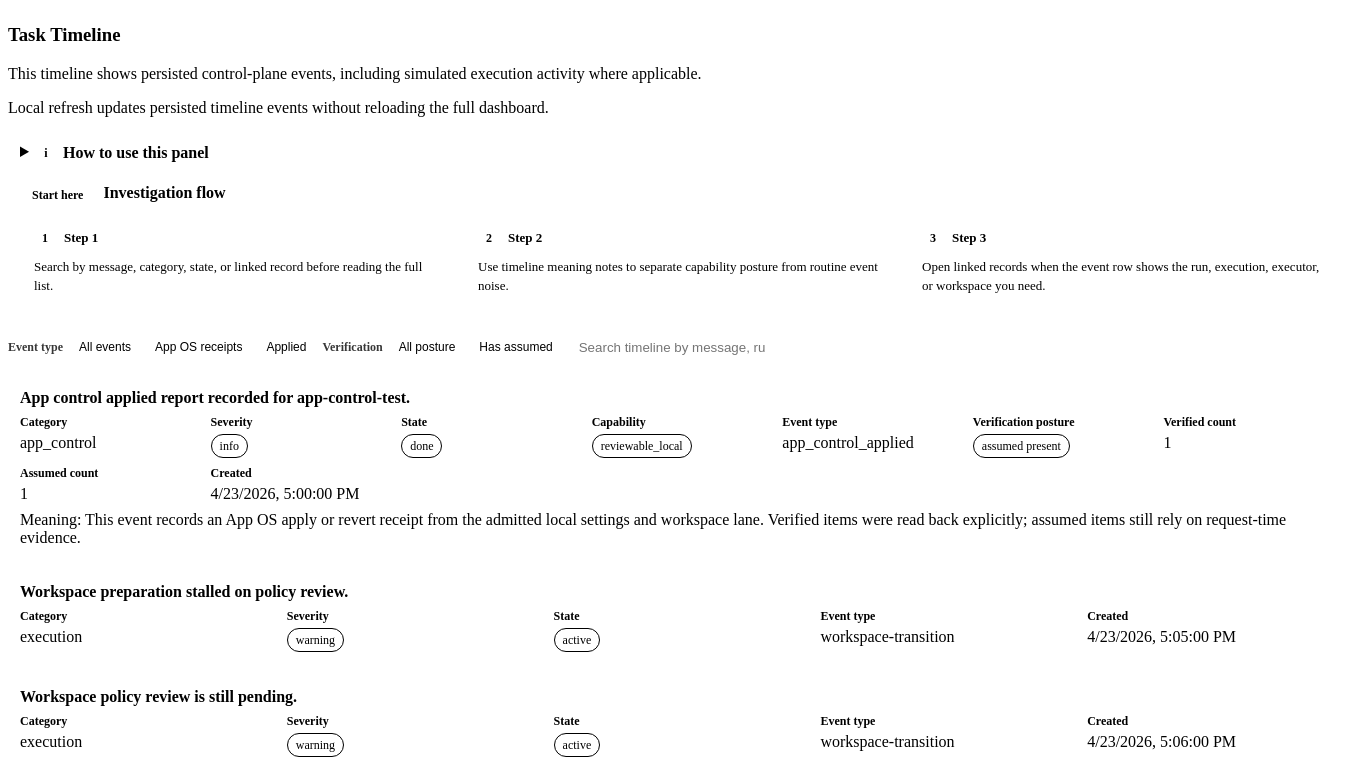
Test: TaskTimeline › shows an inline high-narrowing warning near the filters
The width and height of the screenshot is (1366, 768).
Click the button "App OS receipts" at (199, 347), box [147,338,250,356]
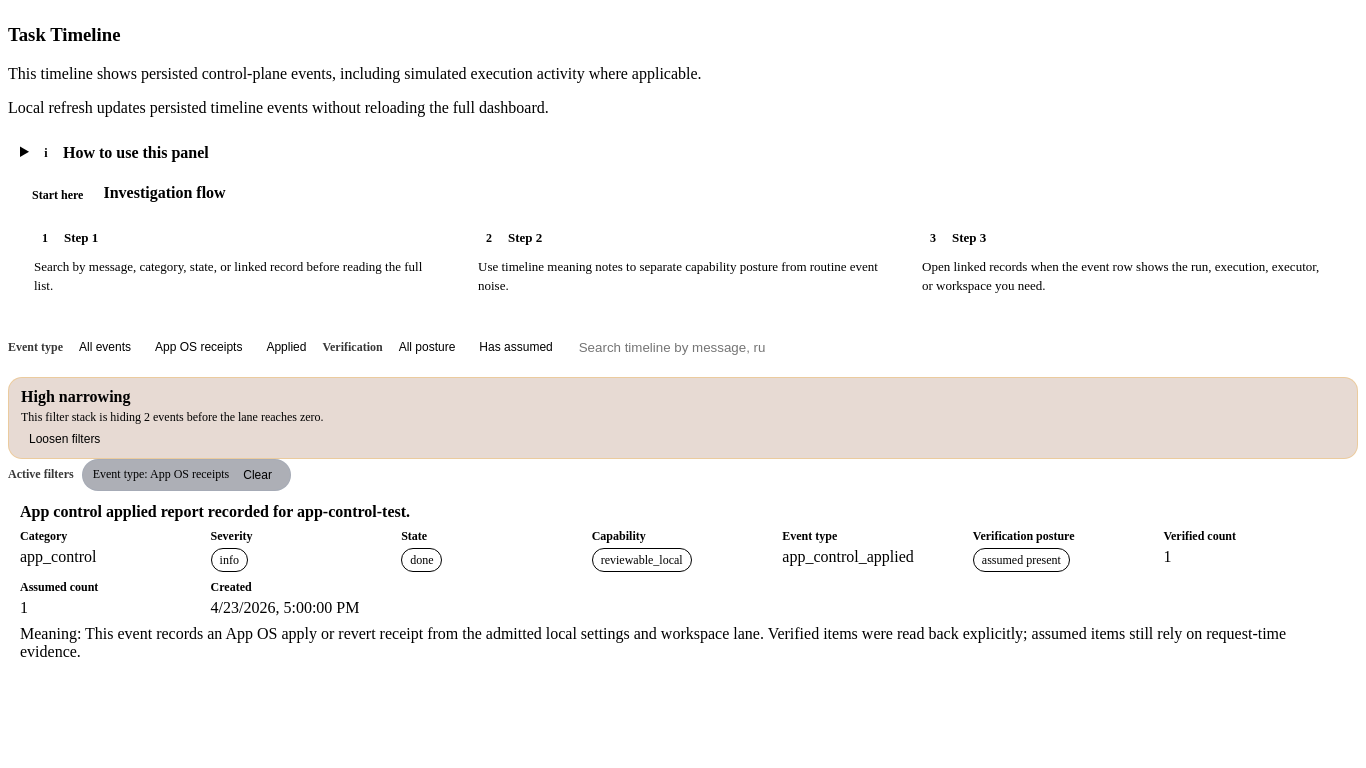
Result: the text "High narrowing" is shown at [21,388,130,405]
Result: the text "This filter stack is hiding 2 events before the lane reaches zero." is shown at [21,410,324,424]
Result: the button "Loosen filters" is shown at [21,430,108,448]
